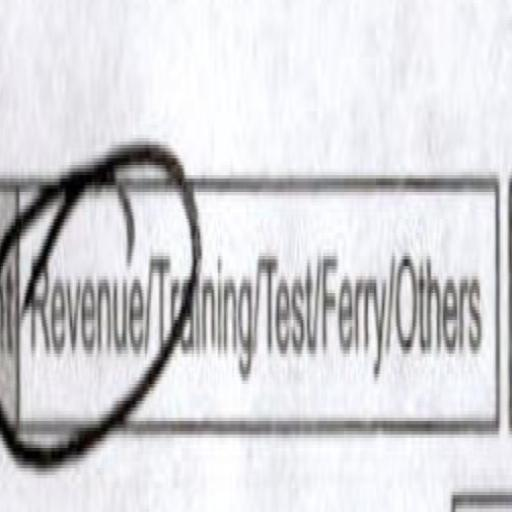check: (23, 87, 152, 512)
